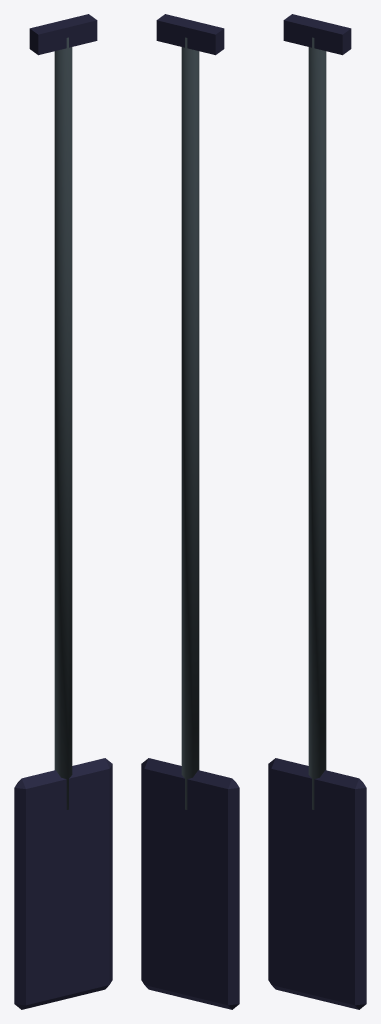
File: sup_paddle.glb
The picture shows the model from 3 angles, left to right: view 1: azimuth 30°, elevation 25°; view 2: azimuth 150°, elevation 25°; view 3: azimuth 330°, elevation 25°; orthographic projection.
Parts seen in each view (by area): view 1: sup_paddle; view 2: sup_paddle; view 3: sup_paddle.
Part boxes in pixels (x1=…): sup_paddle: x1=14, y1=14, x2=112, y2=1009; sup_paddle: x1=141, y1=14, x2=239, y2=1009; sup_paddle: x1=268, y1=14, x2=366, y2=1009.
Size of the model in its own units: 0.1999 by 1.89 by 0.0319.
